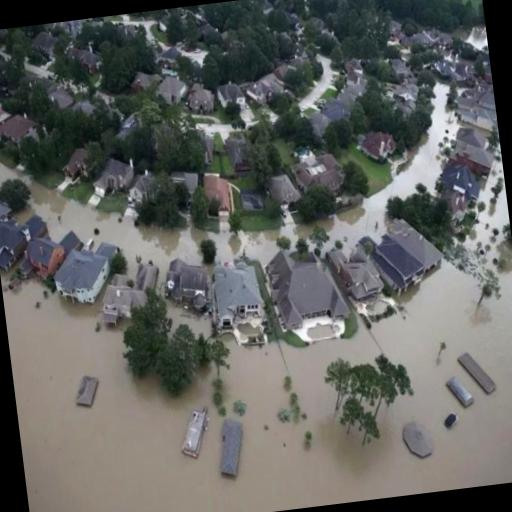flood: (2, 264, 512, 512), (29, 180, 312, 278), (320, 83, 460, 245), (465, 159, 509, 262), (166, 300, 211, 338), (466, 25, 488, 46), (0, 163, 25, 181)
house: (368, 215, 444, 298), (209, 254, 273, 336), (50, 241, 120, 311), (285, 260, 349, 328), (96, 264, 162, 326), (158, 250, 212, 313), (244, 238, 296, 300), (290, 144, 348, 199), (330, 244, 384, 302), (210, 411, 253, 482), (0, 178, 29, 276), (202, 167, 242, 232), (174, 406, 215, 462), (452, 123, 496, 175), (458, 349, 500, 401), (92, 152, 134, 198), (399, 416, 438, 465), (23, 232, 63, 276), (0, 109, 41, 150), (356, 126, 398, 164), (265, 170, 302, 211), (443, 162, 482, 198), (58, 146, 91, 186), (155, 70, 189, 108), (72, 373, 102, 411), (442, 188, 472, 226), (444, 374, 475, 410), (214, 82, 246, 112), (253, 72, 285, 98), (188, 86, 216, 114), (124, 180, 150, 207), (78, 50, 101, 76), (474, 108, 498, 132), (477, 92, 496, 110), (0, 98, 10, 130)
